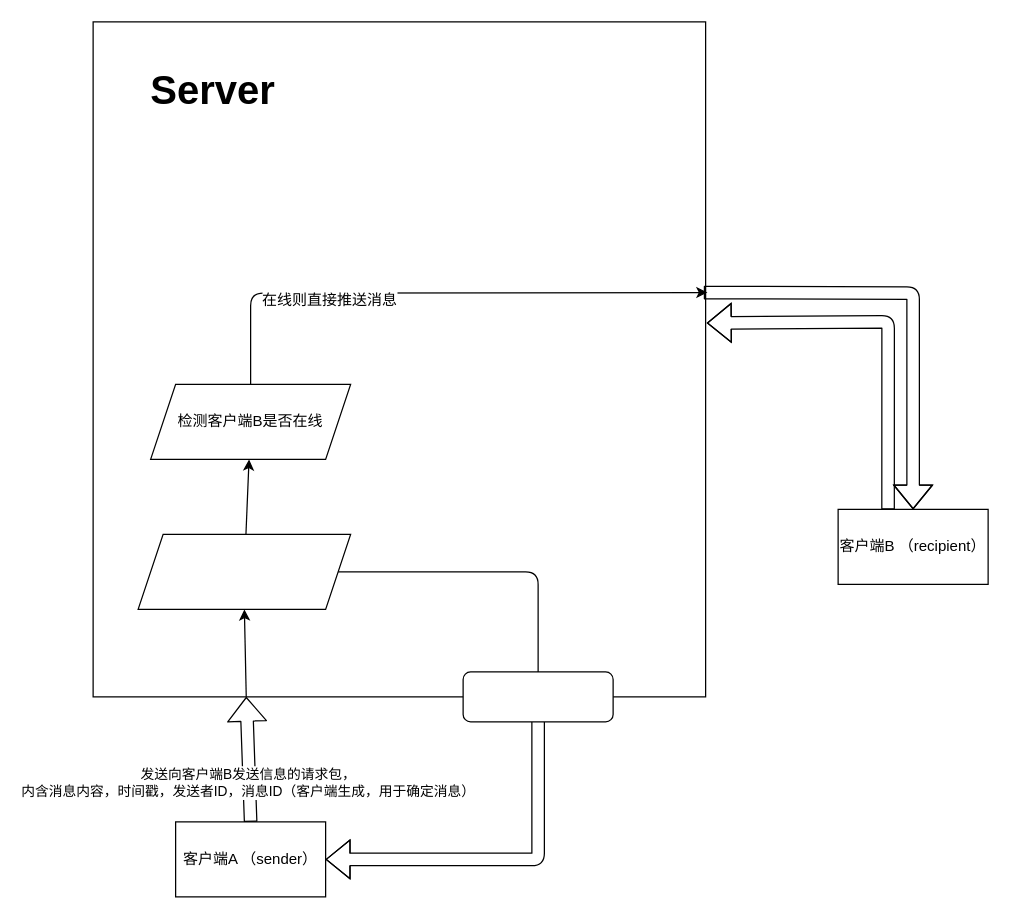
The diagram is 1010 pixels wide and 919 high, and some of its shapes have lost their labels. The shapes that lost their labels are listed below. From the top down, each one's centre as x and y in pixels, then its label:
At pixel 244 571: "检查消息ID是否合法， 用户是否存在".
At pixel 537 696: "返回错误信息".
